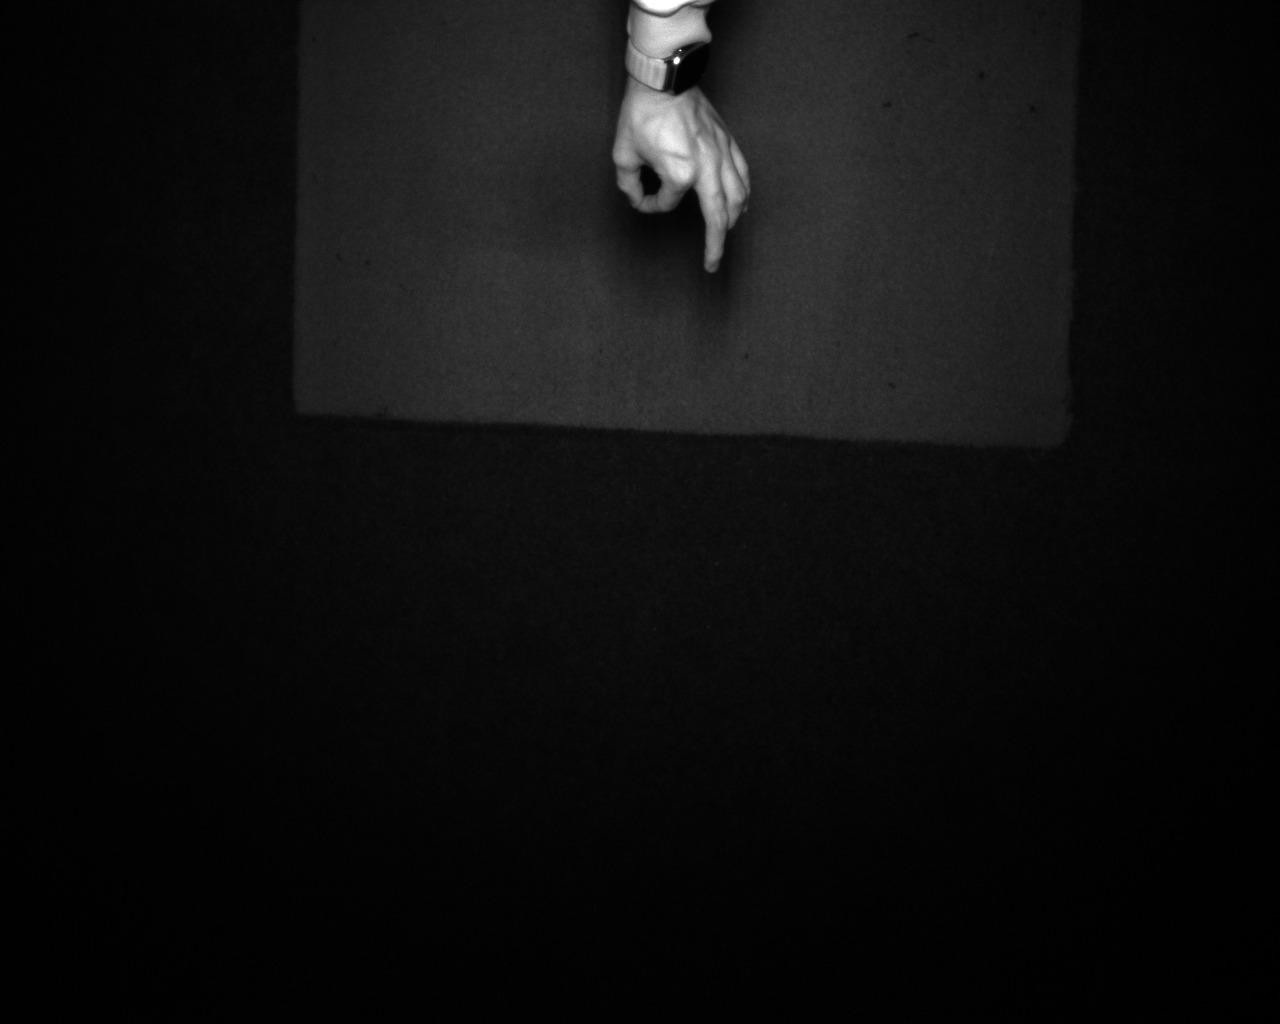hand: (599, 78, 766, 277)
